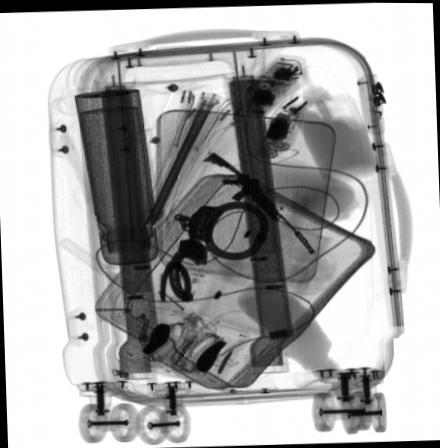Gun: (199, 148, 319, 255)
HandCuffs: (158, 199, 272, 303)
